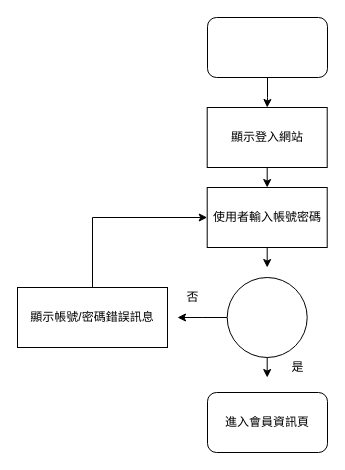
This 345x470 diagram has some shape labels left out. The shapes that lost their labels are listed below. From the top down, each one's box as (x1, y1, x2, y2) in pixels, then its label:
(206, 16, 328, 78): 會員登入
(226, 276, 307, 358): 帳號/密碼是否輸入正確
